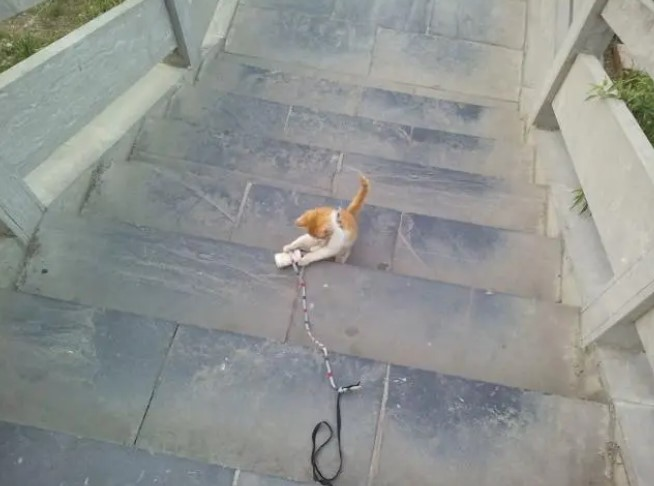cat: (282, 174, 369, 268)
